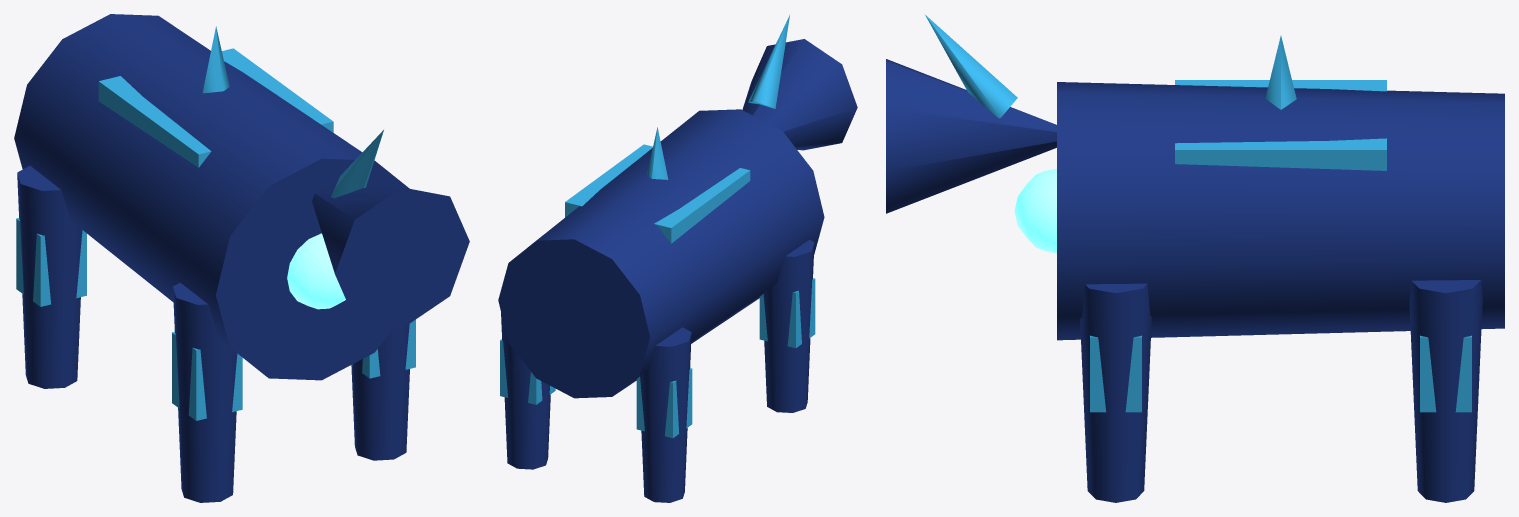
Rendered from mount_fenrir_blue.glb.
3 renders of one model, left to right at view 1: azimuth 30°, elevation 25°; view 2: azimuth 150°, elevation 25°; view 3: azimuth 270°, elevation 25°, orthographic. The views are drawn at different scales.
Parts seen in each view (by area): view 1: MOUNT_FENRIR_BLUE; view 2: MOUNT_FENRIR_BLUE; view 3: MOUNT_FENRIR_BLUE.
Part boxes in pixels (x1,y1,x2,y2): MOUNT_FENRIR_BLUE: (14, 14, 469, 502); MOUNT_FENRIR_BLUE: (498, 15, 857, 502); MOUNT_FENRIR_BLUE: (886, 15, 1504, 502).
Bounding box in the file's own units: 1.22 × 2.02 × 2.62.
